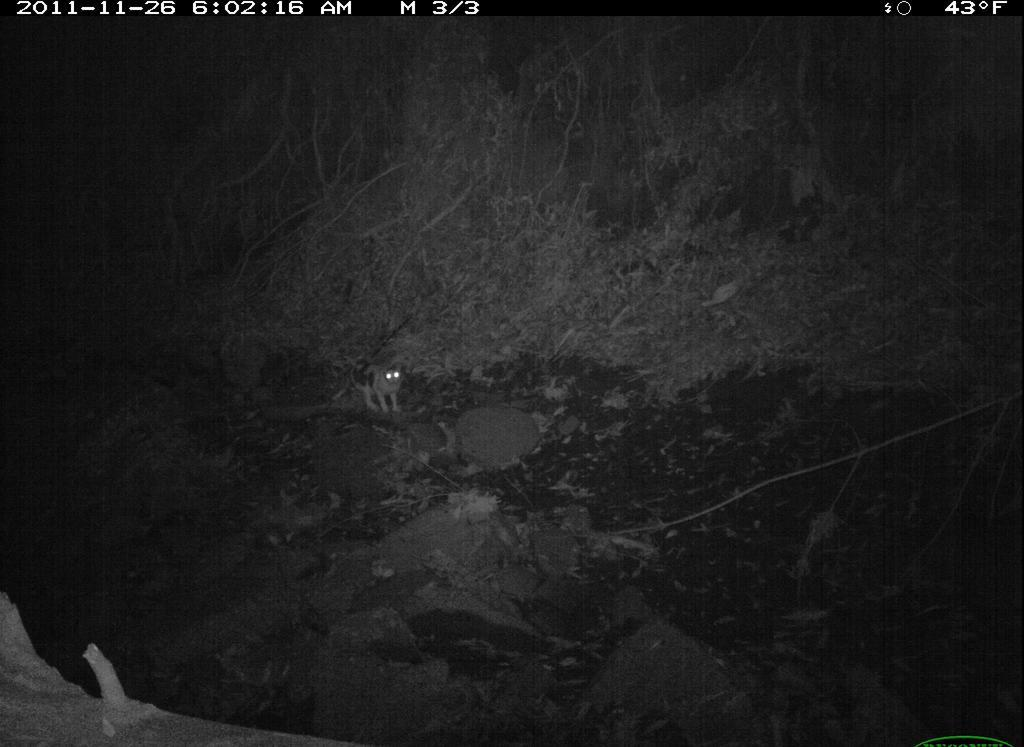cat: (345, 349, 412, 418)
